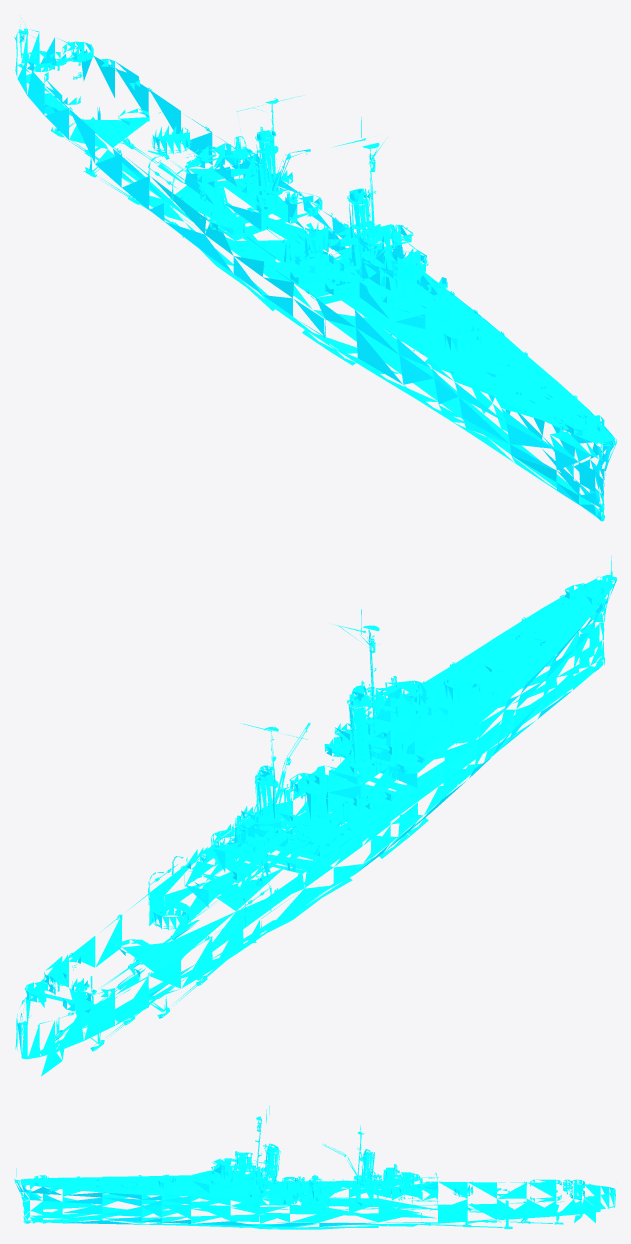
Rendered from Dallas.glb.
The picture shows the model from 3 angles, top to bottom: view 1: azimuth 30°, elevation 25°; view 2: azimuth 150°, elevation 25°; view 3: azimuth 270°, elevation 25°; orthographic projection. The views are drawn at different scales.
Bounding box in the file's own units: 1.21 × 2.51 × 11.58.
